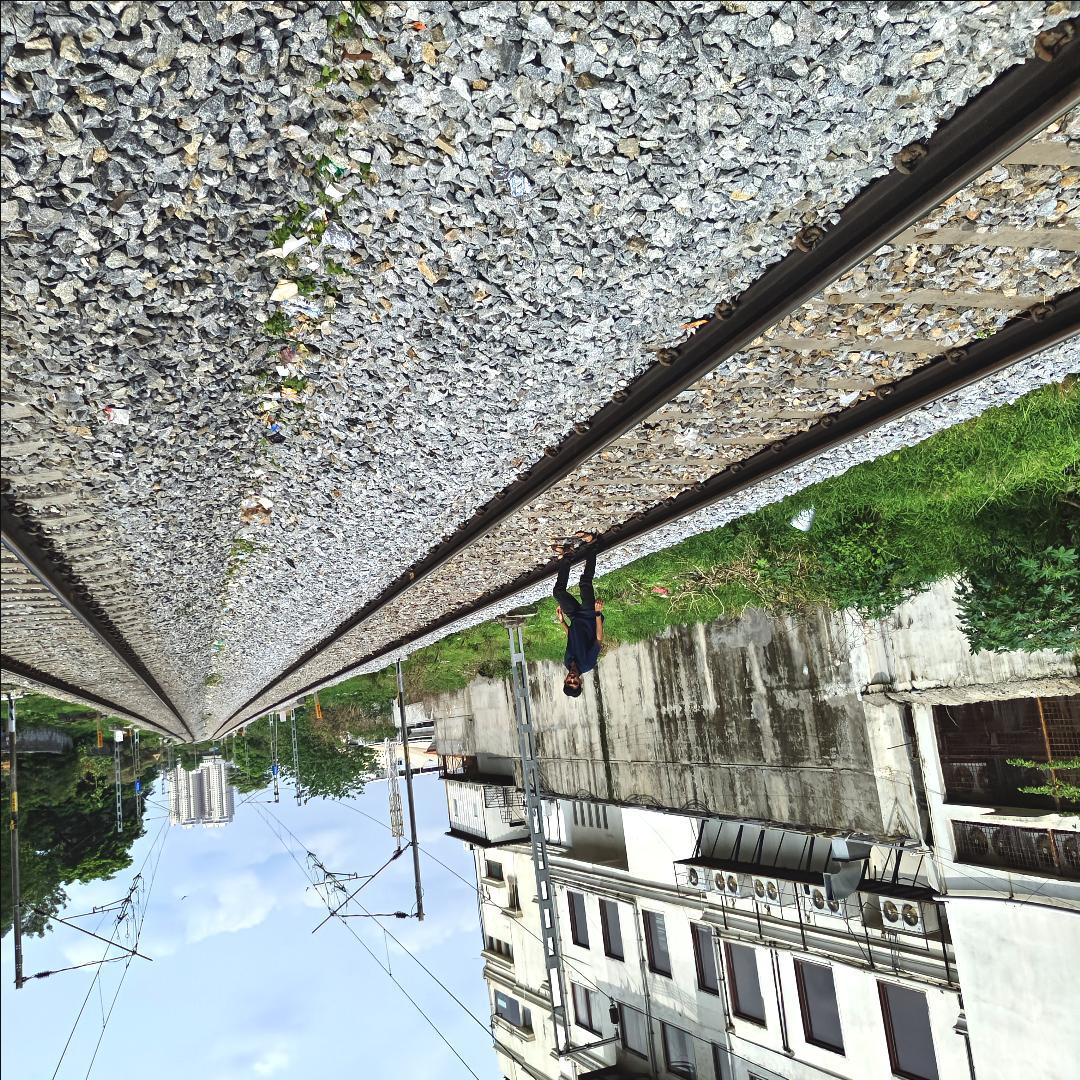standing: (542, 540, 614, 708)
track: (210, 0, 1080, 721)
